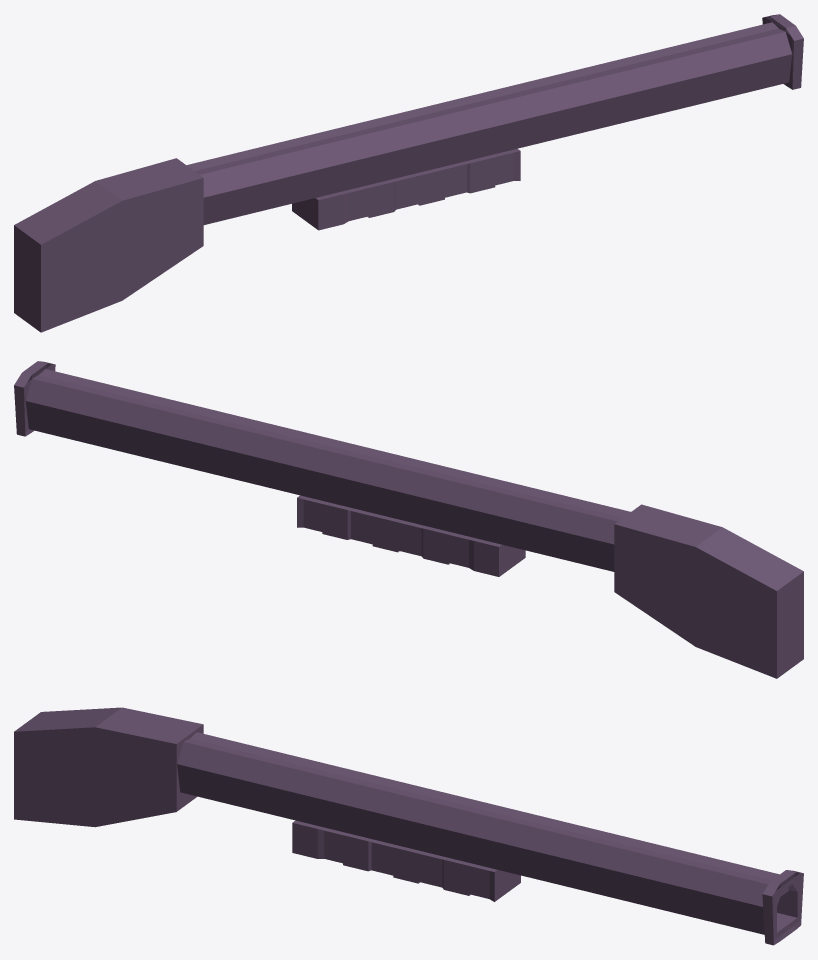
File: rifle.glb
3 views of the same model, one above another, from view 1: azimuth 30°, elevation 25°; view 2: azimuth 150°, elevation 25°; view 3: azimuth 330°, elevation 25° (orthographic).
Visible parts, largest first — view 1: Cube; view 2: Cube; view 3: Cube.
Part boxes in pixels (x1,y1,x2,y2): Cube: (14,14,803,332); Cube: (14,361,803,678); Cube: (14,707,803,945).
Size of the model in its own units: 1.79 by 0.2631 by 0.1296.
